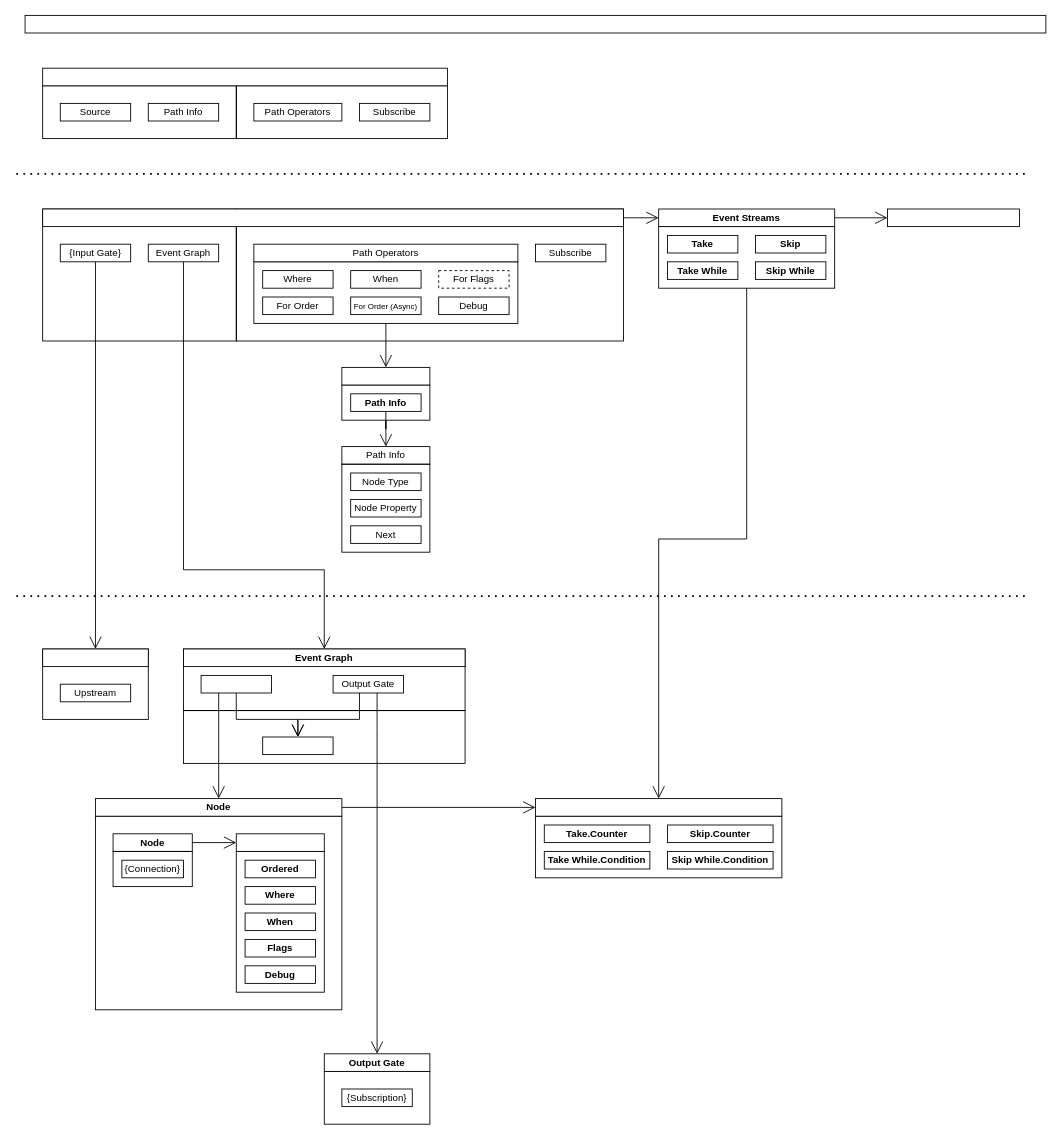
Some shapes in this 1061 by 1140 pixel diagram are drawn without their labels. Here are the shapes that lost their labels. From the top down, the centre of each, then its label:
At (535,24): "Event Stream".
At (244,76): "Event Path : IRegistrable".
At (332,217): "Event Stream : IRegistrable".
At (953,217): "Event Stream.Main".
At (385,376): "Event Path".
At (95,657): "Input Gate".
At (235,684): "{Node}".
At (297,745): "Node Child".
At (658,807): "Private Nodes".
At (279,842): "Nodes".
